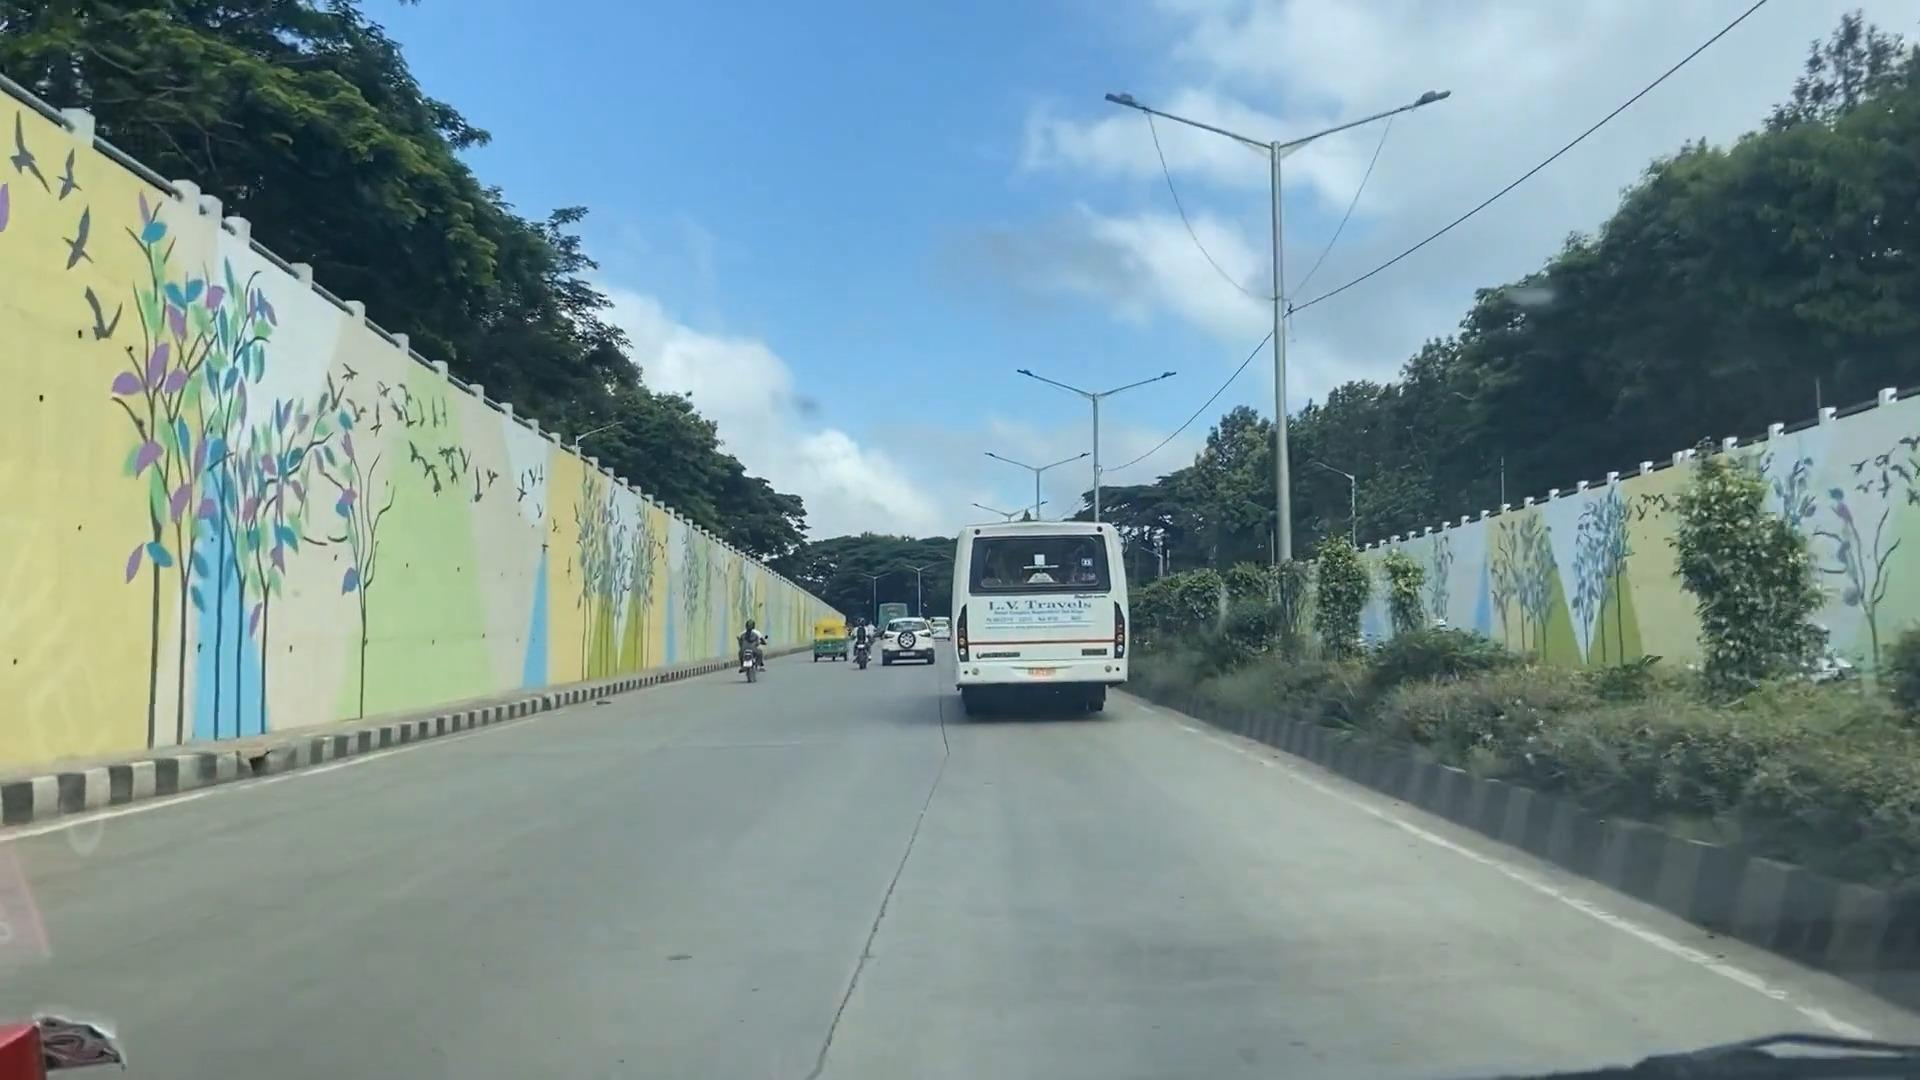HMV: (956, 533, 1125, 716)
